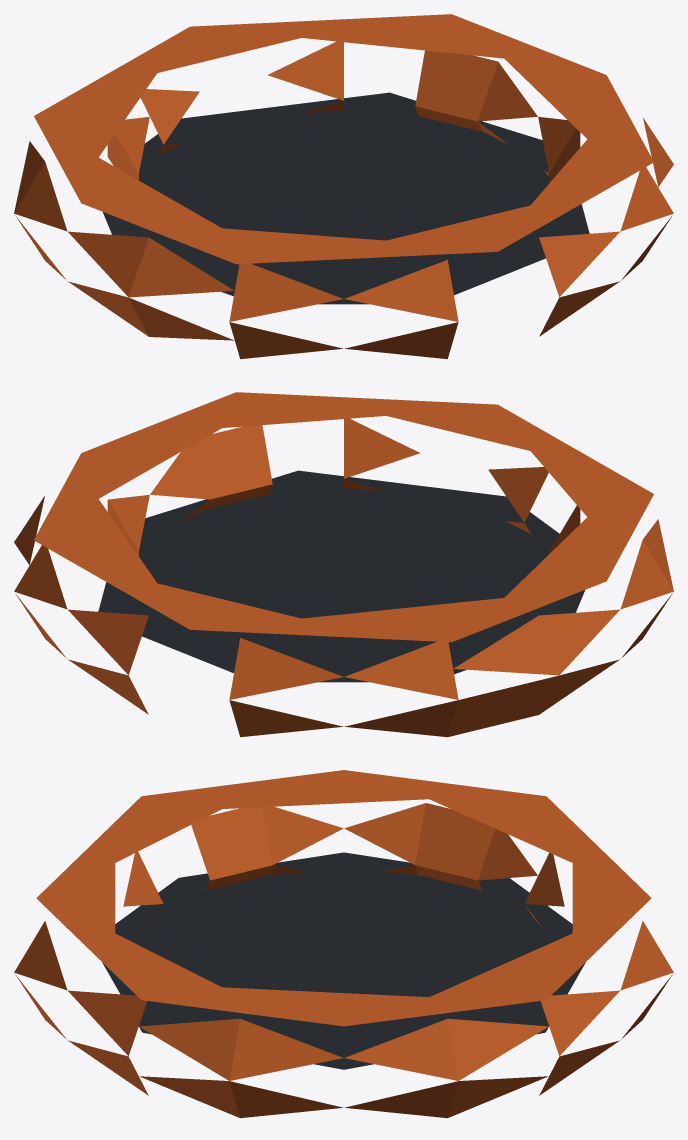
Rendered from emergency-raft.lod.glb.
3 views of the same model, one above another, from view 1: azimuth 30°, elevation 25°; view 2: azimuth 150°, elevation 25°; view 3: azimuth 270°, elevation 25° (orthographic).
Parts seen in each view (by area): view 1: m; view 2: m; view 3: m.
Boxes of the visible parts, x1,y1,x2,y2 form: m: [14, 14, 673, 359]; m: [14, 392, 673, 737]; m: [14, 770, 673, 1118].
Bounding box in the file's own units: 0.3579 × 0.0616 × 0.3699.
